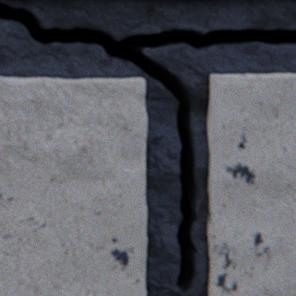brick: (0, 76, 146, 295), (206, 73, 295, 295)
crack: (0, 1, 295, 294)
